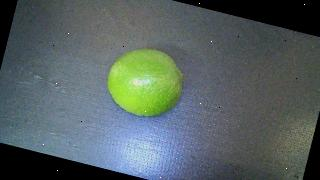EXPORTACION: (101, 41, 190, 125)
